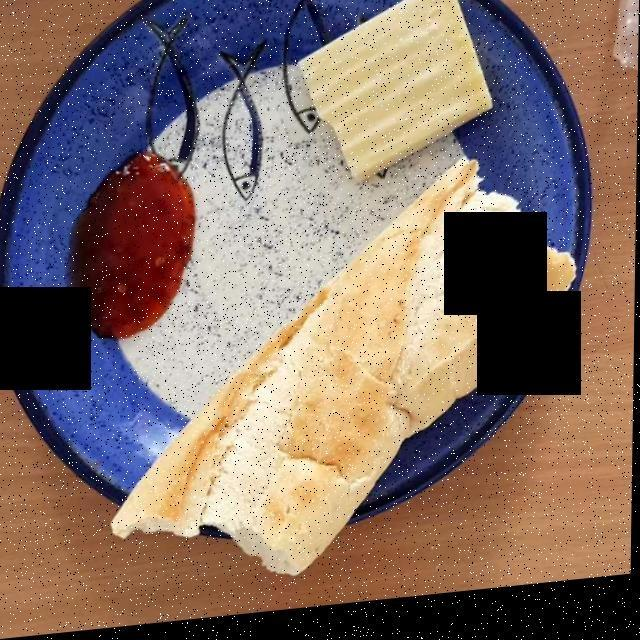bread: (103, 172, 599, 586)
cheese: (289, 0, 501, 184)
sauce: (67, 141, 211, 323)
